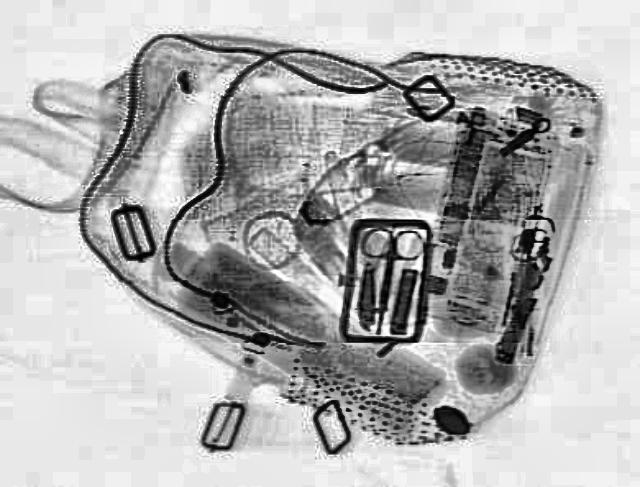Scissors: (346, 226, 424, 334)
